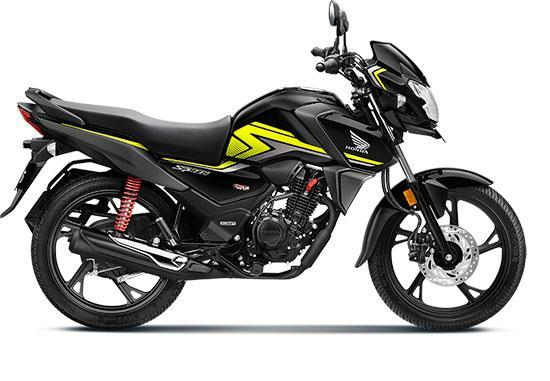motorbike: (1, 1, 527, 330)
